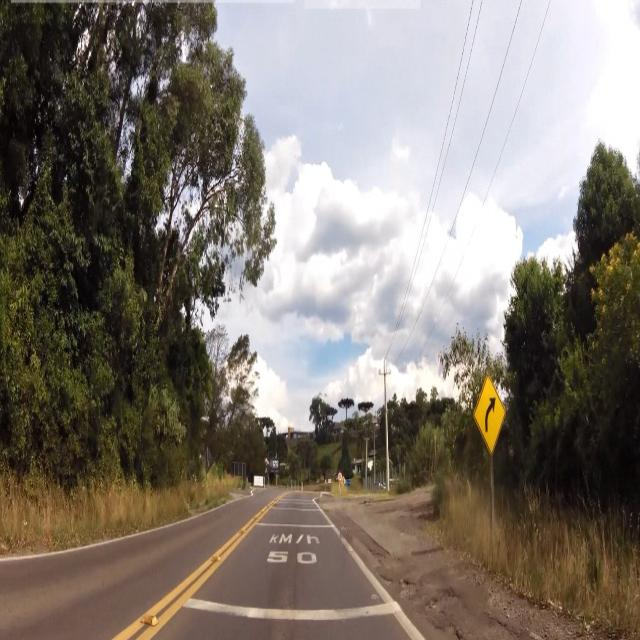A-2b: (469, 373, 510, 455)
